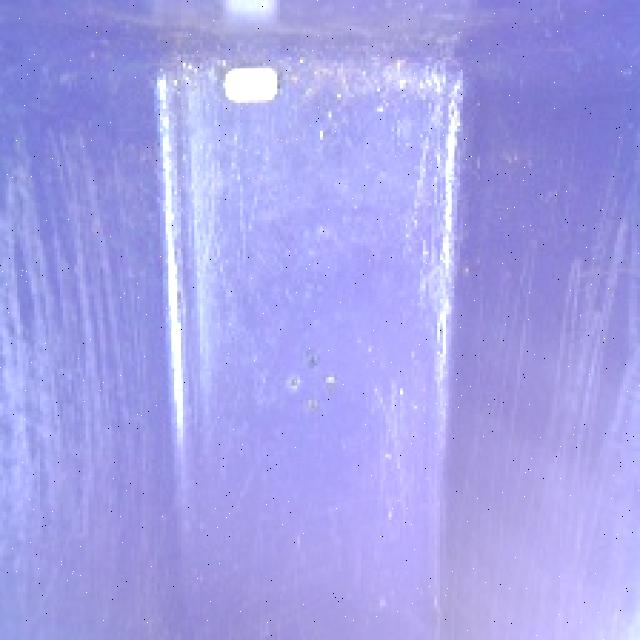small: (215, 59, 289, 105)
